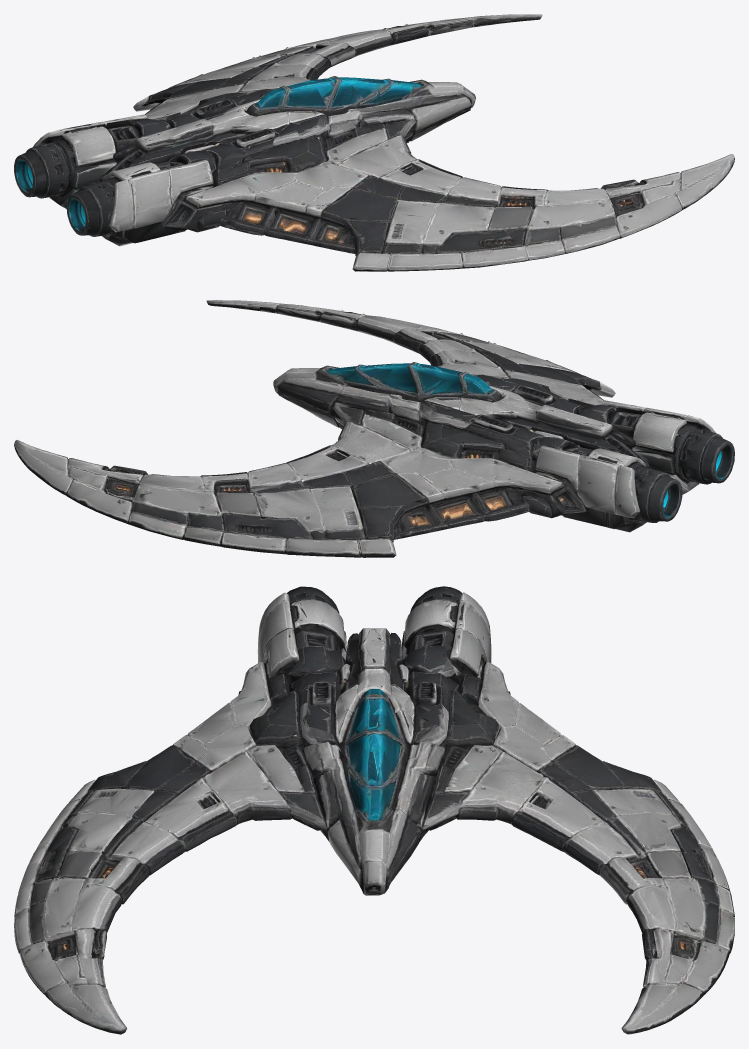
The model's file is manta.glb.
3 views of the same model, one above another, from view 1: azimuth 30°, elevation 25°; view 2: azimuth 150°, elevation 25°; view 3: azimuth 270°, elevation 25° (orthographic). The views are drawn at different scales.
Visible parts, largest first — view 1: Mesh_0_game; view 2: Mesh_0_game; view 3: Mesh_0_game.
Boxes of the visible parts, x1,y1,x2,y2 form: Mesh_0_game: [14, 14, 734, 271]; Mesh_0_game: [14, 300, 734, 557]; Mesh_0_game: [14, 586, 734, 1034].
Size of the model in its own units: 1.35 by 0.2271 by 1.1.
1 material, 1 textured.
